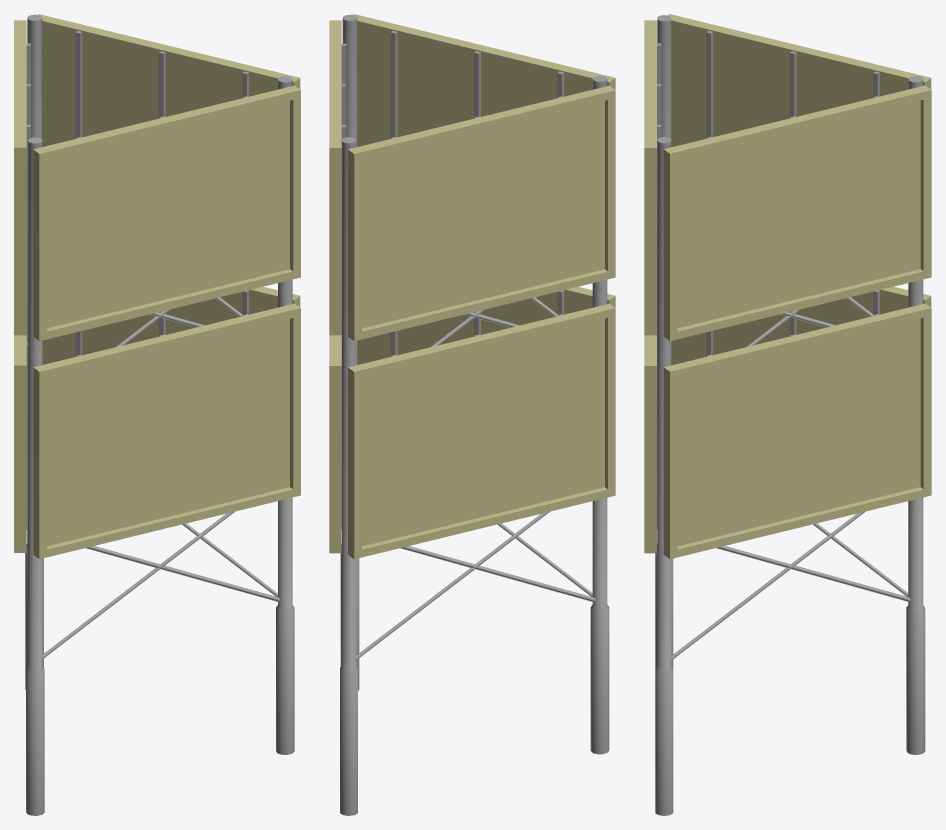
The model's file is Sighn2.fbx.
The picture shows the model from 3 angles, left to right: view 1: azimuth 30°, elevation 25°; view 2: azimuth 150°, elevation 25°; view 3: azimuth 270°, elevation 25°; orthographic projection.
Visible parts, largest first — view 1: SP_TNR_BillboardRace_1; view 2: SP_TNR_BillboardRace_1; view 3: SP_TNR_BillboardRace_1.
Part boxes in pixels (x1,y1,x2,y2): SP_TNR_BillboardRace_1: [14, 14, 300, 815]; SP_TNR_BillboardRace_1: [329, 14, 615, 815]; SP_TNR_BillboardRace_1: [644, 14, 931, 815].
Bounding box in the file's own units: 175 × 391 × 152.
